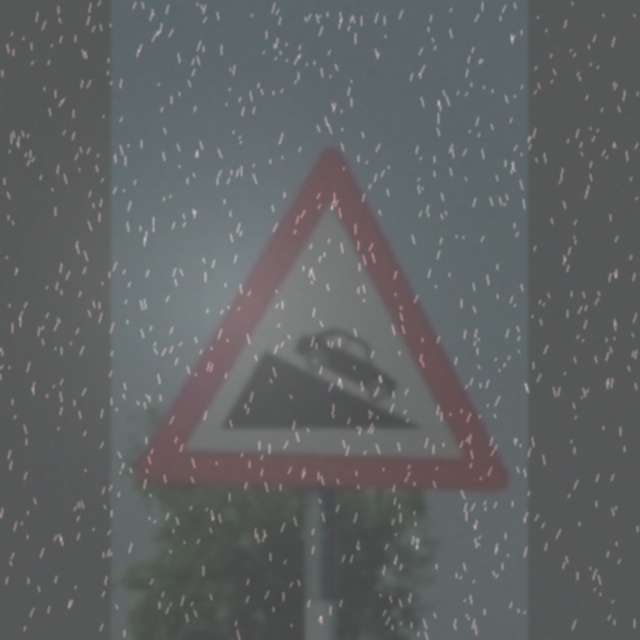Steep_Descent: (149, 154, 495, 495)
